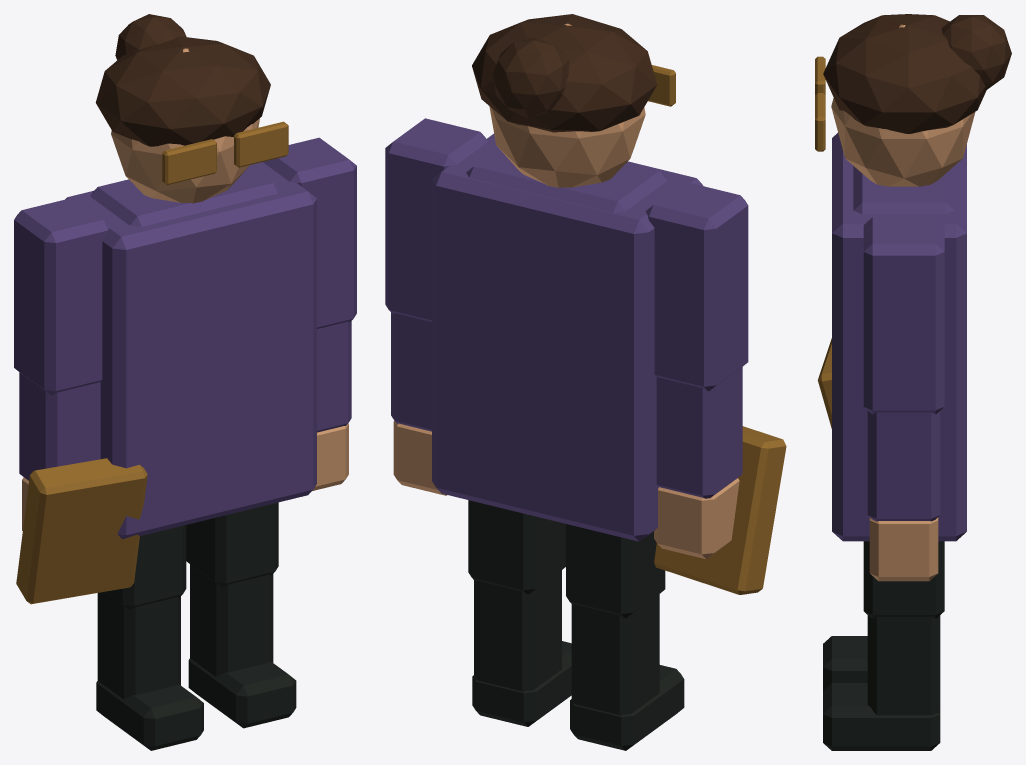
The model's file is MaelaArchiveKeeper.glb.
The picture shows the model from 3 angles, left to right: view 1: azimuth 30°, elevation 25°; view 2: azimuth 150°, elevation 25°; view 3: azimuth 270°, elevation 25°; orthographic projection. The views are drawn at different scales.
Parts seen in each view (by area): view 1: UpperTorso_Robe, LeftUpperArm, LeftHand_Book, Head_HairCap, RightUpperArm, RightLowerLeg, LeftLowerLeg, LeftLowerArm, RightUpperLeg, RightFoot, LeftFoot, Head (+7 smaller); view 2: UpperTorso_Robe, LeftUpperArm, Head_HairCap, RightUpperArm, LeftLowerArm, LeftLowerLeg, RightLowerLeg, LeftHand_Book, Head, RightUpperLeg, LeftUpperLeg, UpperTorso (+7 smaller); view 3: UpperTorso_Robe, RightUpperArm, Head_HairCap, RightLowerArm, RightLowerLeg, Head, RightFoot, RightHand, RightUpperLeg, UpperTorso, Head_HairBun, LeftFoot (+3 smaller).
Boxes of the visible parts, left/top/right/bottom form: UpperTorso_Robe: left=65, top=162, right=316, bottom=539; LeftUpperArm: left=14, top=197, right=110, bottom=395; LeftHand_Book: left=16, top=458, right=147, bottom=604; Head_HairCap: left=95, top=36, right=270, bottom=146; RightUpperArm: left=263, top=137, right=356, bottom=328; RightLowerLeg: left=190, top=564, right=273, bottom=676; LeftLowerLeg: left=97, top=591, right=180, bottom=699; LeftLowerArm: left=19, top=372, right=100, bottom=480; RightUpperLeg: left=186, top=502, right=278, bottom=587; RightFoot: left=188, top=658, right=296, bottom=728; LeftFoot: left=96, top=681, right=203, bottom=750; Head: left=111, top=48, right=259, bottom=203; UpperTorso_Robe: left=432, top=134, right=702, bottom=541; LeftUpperArm: left=645, top=182, right=748, bottom=391; Head_HairCap: left=472, top=14, right=657, bottom=132; RightUpperArm: left=385, top=118, right=487, bottom=321; LeftLowerArm: left=656, top=367, right=742, bottom=498; LeftLowerLeg: left=571, top=594, right=659, bottom=715; RightLowerLeg: left=474, top=570, right=561, bottom=691; LeftHand_Book: left=654, top=426, right=786, bottom=594; Head: left=489, top=23, right=645, bottom=187; RightUpperLeg: left=468, top=500, right=565, bottom=594; LeftUpperLeg: left=566, top=524, right=665, bottom=618; UpperTorso: left=466, top=148, right=667, bottom=212; UpperTorso_Robe: left=832, top=132, right=966, bottom=541; RightUpperArm: left=863, top=217, right=944, bottom=414; Head_HairCap: left=823, top=14, right=986, bottom=133; RightLowerArm: left=867, top=411, right=940, bottom=521; RightLowerLeg: left=867, top=615, right=940, bottom=715; Head: left=831, top=24, right=975, bottom=186; RightFoot: left=823, top=683, right=940, bottom=750; RightHand: left=869, top=517, right=938, bottom=581; RightUpperLeg: left=863, top=541, right=944, bottom=618; UpperTorso: left=853, top=166, right=954, bottom=214; Head_HairBun: left=941, top=15, right=1011, bottom=90; LeftFoot: left=823, top=636, right=867, bottom=690.
Bounding box in the file's own units: 4.47 × 8.58 × 2.19.
1 material, 1 textured.
